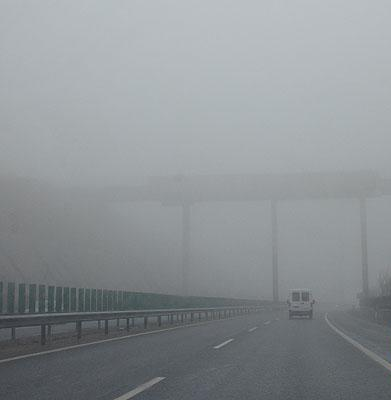car: (286, 288, 314, 320)
